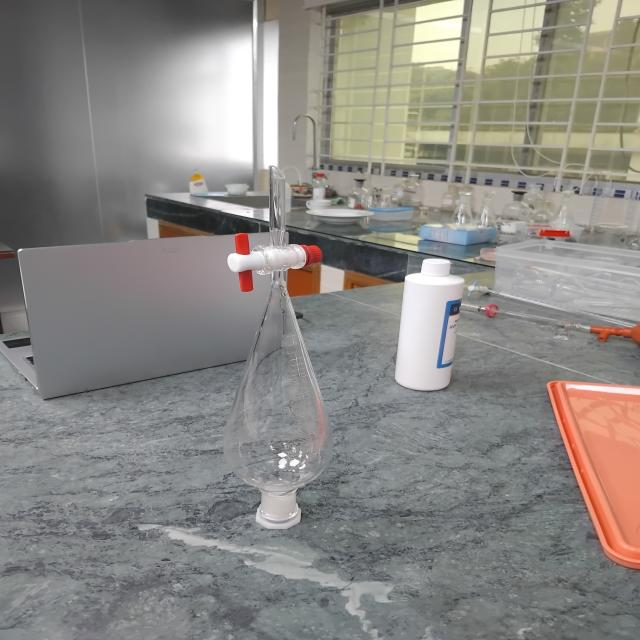Separating_Funnel: (186, 150, 375, 544)
